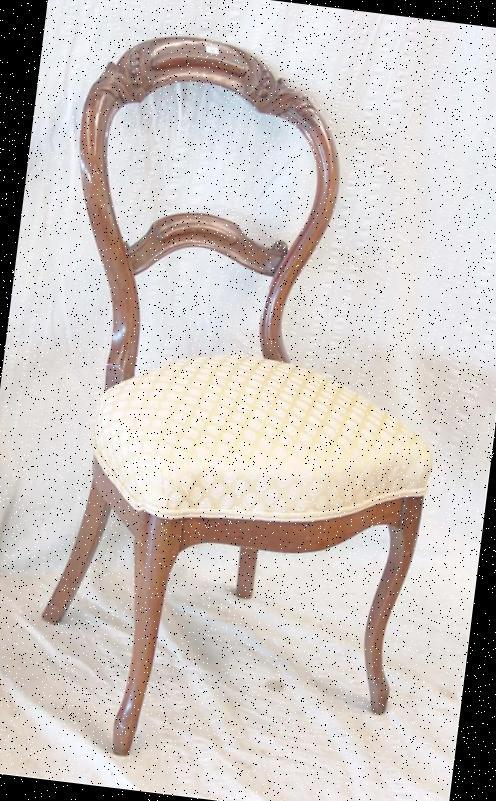Silla: (0, 31, 470, 796)
